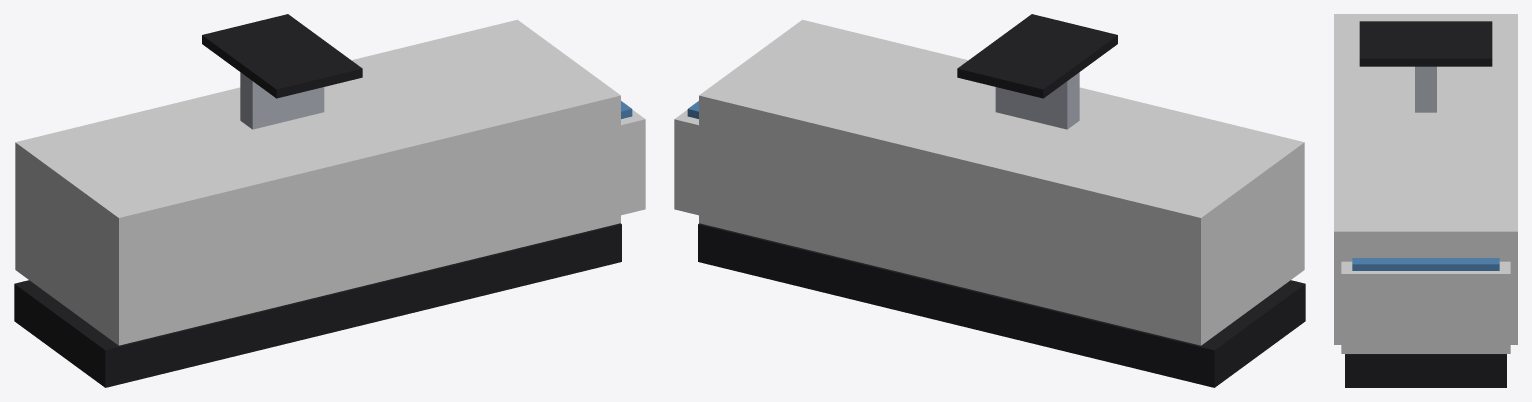
Rendered from loco_electric_2012.glb.
3 views of the same model, side by side, from view 1: azimuth 30°, elevation 25°; view 2: azimuth 150°, elevation 25°; view 3: azimuth 270°, elevation 25° (orthographic). The views are drawn at different scales.
Visible parts, largest first — view 1: Body, Chassis, Wire, Pantograph, Nose; view 2: Body, Chassis, Wire, Pantograph, Nose; view 3: Body, Nose, Wire, Chassis, Windscreen, Pantograph.
Boxes of the visible parts, bbox=[...] form: Body: bbox=[15, 19, 620, 345]; Chassis: bbox=[14, 223, 621, 387]; Wire: bbox=[202, 14, 362, 98]; Pantograph: bbox=[240, 72, 324, 129]; Nose: bbox=[621, 110, 645, 215]; Body: bbox=[699, 19, 1304, 345]; Chassis: bbox=[698, 223, 1305, 387]; Wire: bbox=[957, 14, 1117, 98]; Pantograph: bbox=[995, 72, 1079, 129]; Nose: bbox=[674, 110, 698, 215]; Body: bbox=[1334, 14, 1517, 344]; Nose: bbox=[1341, 261, 1510, 353]; Wire: bbox=[1359, 21, 1492, 66]; Chassis: bbox=[1345, 354, 1506, 387]; Windscreen: bbox=[1352, 258, 1499, 270]; Pantograph: bbox=[1415, 66, 1436, 112].
Bounding box in the file's own units: 0.75 × 0.331 × 0.25.
